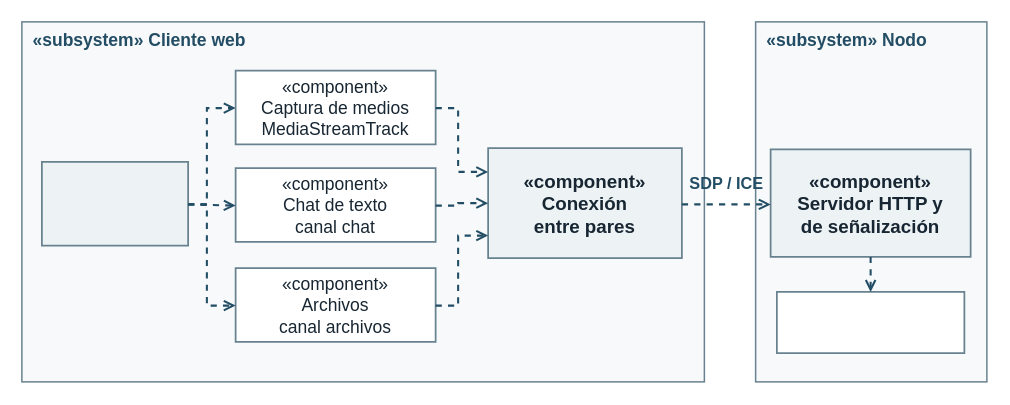
The diagram is 1010 pixels wide and 405 high, and some of its shapes have lost their labels. Each missing label, with the centre of its shape:
«component» Interfaz web: pixel 114 203
«component» Registro de eventos: pixel 870 321
